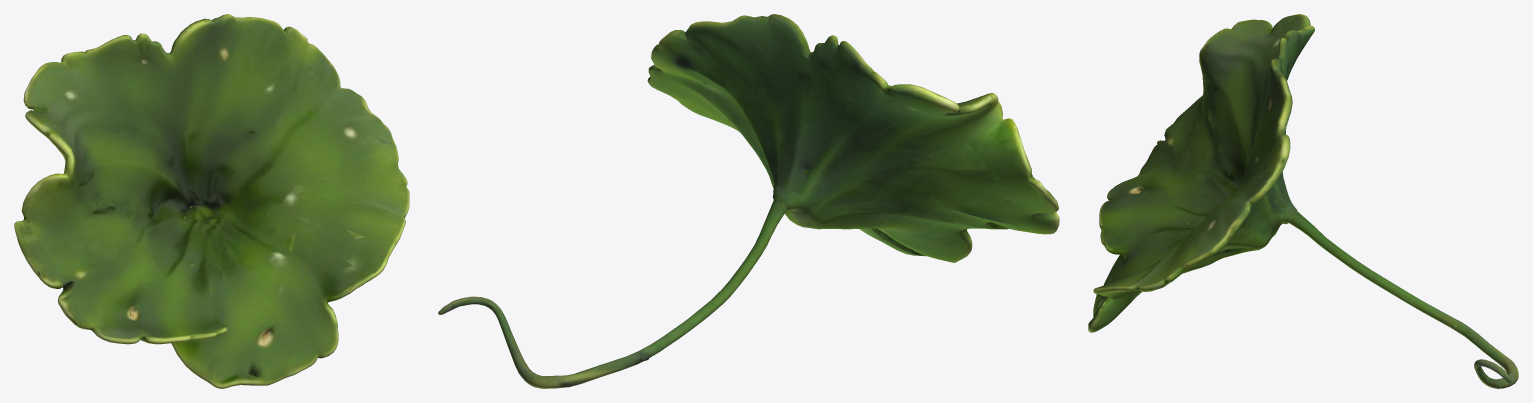
Rendered from Meshy_AI_Pennywort_0210153648_texture_decimated.obj.
3 views of the same model, side by side, from view 1: azimuth 30°, elevation 25°; view 2: azimuth 150°, elevation 25°; view 3: azimuth 270°, elevation 25° (orthographic). The views are drawn at different scales.
Parts seen in each view (by area): view 1: Meshy_AI_Pennywort_0210153648_texture; view 2: Meshy_AI_Pennywort_0210153648_texture; view 3: Meshy_AI_Pennywort_0210153648_texture.
Part boxes in pixels (x1,y1,x2,y2): Meshy_AI_Pennywort_0210153648_texture: (14,14,409,388); Meshy_AI_Pennywort_0210153648_texture: (438,14,1059,388); Meshy_AI_Pennywort_0210153648_texture: (1088,14,1518,388).
Size of the model in its own units: 2 by 1.32 by 1.87.
